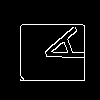A: (30, 25, 87, 74)
